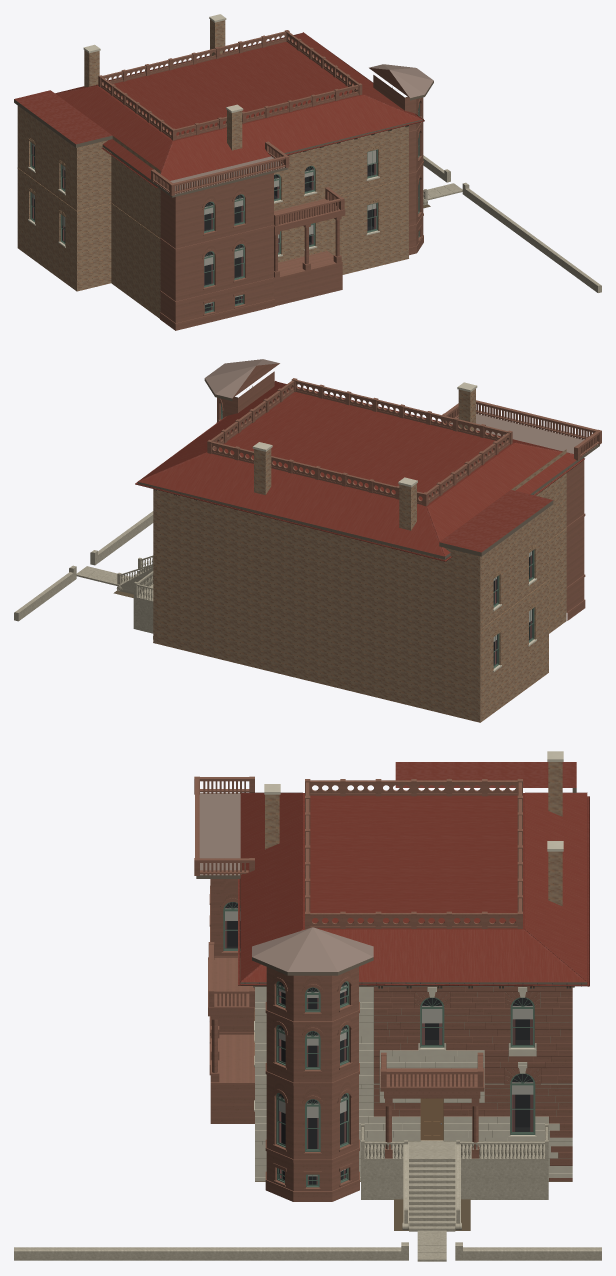
Rendered from edson_keith_house_1906_prairie__as_mapped_1904.glb.
The picture shows the model from 3 angles, top to bottom: view 1: azimuth 30°, elevation 25°; view 2: azimuth 150°, elevation 25°; view 3: azimuth 270°, elevation 25°; orthographic projection. The views are drawn at different scales.
Parts seen in each view (by area): view 1: edson_keith_house_1906_prairie__as_mapped_1904; view 2: edson_keith_house_1906_prairie__as_mapped_1904; view 3: edson_keith_house_1906_prairie__as_mapped_1904.
Boxes of the visible parts, box(x1,y1,x2,y2) form: edson_keith_house_1906_prairie__as_mapped_1904: box(14, 14, 601, 330); edson_keith_house_1906_prairie__as_mapped_1904: box(14, 359, 601, 722); edson_keith_house_1906_prairie__as_mapped_1904: box(14, 751, 601, 1261).
Size of the model in its own units: 34.62 by 15.75 by 30.53.
25 materials, 13 textured.
